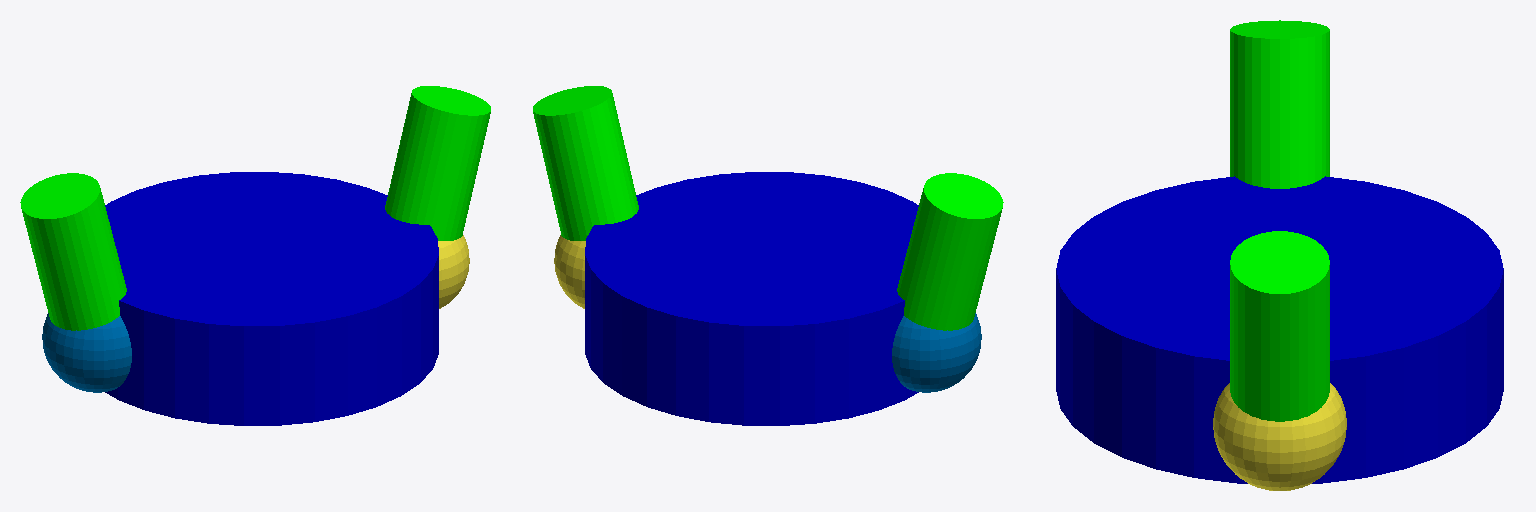
robot.urdf — gripper_2f_1j:
<?xml version='1.0' encoding='UTF-8'?>
<robot name="gripper_2f_1j">
  <link name="palm">
    <inertial>
      <origin xyz="0.0 0.0 0.0" rpy="0.0 -0.0 0.0"/>
      <mass value="1.0"/>
      <inertia ixx="1.0" ixy="0.0" ixz="0.0" iyy="1.0" iyz="0.0" izz="1.0"/>
    </inertial>
    <visual>
      <geometry>
        <cylinder radius="0.05" length="0.03"/>
      </geometry>
      <material name="blue"/>
      <origin xyz="0.0 0.0 0.0" rpy="0.0 -0.0 0.0"/>
    </visual>
    <collision>
      <geometry>
        <cylinder radius="0.05" length="0.03"/>
      </geometry>
      <origin xyz="0.0 0.0 0.0" rpy="0.0 0.0 0.0"/>
    </collision>
  </link>
  <link name="f11">
    <inertial>
      <origin xyz="0.0 0.0 0.0" rpy="0.0 -0.0 0.0"/>
      <mass value="1.0"/>
      <inertia ixx="1.0" ixy="0.0" ixz="0.0" iyy="1.0" iyz="0.0" izz="1.0"/>
    </inertial>
    <visual>
      <geometry>
        <cylinder radius="0.011155276690076148" length="0.04671896175161852"/>
      </geometry>
      <material name="green"/>
      <origin xyz="0.0 0.0 0.02335948087580926" rpy="0.0 -0.0 0.0"/>
    </visual>
    <collision>
      <geometry>
        <cylinder radius="0.011155276690076148" length="0.04671896175161852"/>
      </geometry>
      <origin xyz="0.0 0.0 0.05" rpy="0.0 0.0 0.0"/>
    </collision>
  </link>
  <link name="f21">
    <inertial>
      <origin xyz="0.0 0.0 0.0" rpy="0.0 -0.0 0.0"/>
      <mass value="1.0"/>
      <inertia ixx="1.0" ixy="0.0" ixz="0.0" iyy="1.0" iyz="0.0" izz="1.0"/>
    </inertial>
    <visual>
      <geometry>
        <cylinder radius="0.011155276690076148" length="0.04671896175161852"/>
      </geometry>
      <material name="green"/>
      <origin xyz="0.0 0.0 0.02335948087580926" rpy="0.0 -0.0 0.0"/>
    </visual>
    <collision>
      <geometry>
        <cylinder radius="0.011155276690076148" length="0.04671896175161852"/>
      </geometry>
      <origin xyz="0.0 0.0 0.05" rpy="0.0 0.0 0.0"/>
    </collision>
  </link>
  <link name="f11_base">
    <inertial>
      <origin xyz="0.0 0.0 0.0" rpy="0.0 -0.0 0.0"/>
      <mass value="1.0"/>
      <inertia ixx="1.0" ixy="0.0" ixz="0.0" iyy="1.0" iyz="0.0" izz="1.0"/>
    </inertial>
    <visual>
      <geometry>
        <sphere radius="0.015"/>
      </geometry>
      <origin xyz="0.0 0.0 0.0" rpy="0.0 -0.0 0.0"/>
    </visual>
  </link>
  <link name="f21_base">
    <inertial>
      <origin xyz="0.0 0.0 0.0" rpy="0.0 -0.0 0.0"/>
      <mass value="1.0"/>
      <inertia ixx="1.0" ixy="0.0" ixz="0.0" iyy="1.0" iyz="0.0" izz="1.0"/>
    </inertial>
    <visual>
      <geometry>
        <sphere radius="0.015"/>
      </geometry>
      <origin xyz="0.0 0.0 0.0" rpy="0.0 -0.0 0.0"/>
    </visual>
  </link>
  <joint name="f11_joint" type="revolute">
    <dynamics damping="100.0" friction="1.0"/>
    <limit effort="30.0" velocity="2.0" lower="-0.6" upper="0.25"/>
    <parent link="f11_base"/>
    <child link="f11"/>
    <axis xyz="0. 1. 0."/>
    <origin xyz="0.0 0.0 0.0" rpy="0.0 0.25 0.0"/>
  </joint>
  <joint name="f21_joint" type="revolute">
    <dynamics damping="100.0" friction="1.0"/>
    <limit effort="30.0" velocity="2.0" lower="-0.6" upper="0.25"/>
    <parent link="f21_base"/>
    <child link="f21"/>
    <axis xyz=" 0. -1.  0."/>
    <origin xyz="0.0 0.0 0.0" rpy="0.0 -0.25 0.0"/>
  </joint>
  <joint name="f11_base_joint" type="fixed">
    <parent link="palm"/>
    <child link="f11_base"/>
    <axis xyz="1. 0. 0."/>
    <origin xyz="0.05 0.0 0.0" rpy="0.0 0.0 0.0"/>
  </joint>
  <joint name="f21_base_joint" type="fixed">
    <parent link="palm"/>
    <child link="f21_base"/>
    <axis xyz="1. 0. 0."/>
    <origin xyz="-0.05 -0.0 0.0" rpy="0.0 0.0 0.0"/>
  </joint>
  <material name="blue">
    <color rgba="0.  0.  0.8 1. "/>
  </material>
  <material name="green">
    <color rgba="0. 1. 0. 1."/>
  </material>
</robot>

--- Render facts (derived) ---
The picture shows the robot from 3 angles, left to right: view 1: azimuth 30°, elevation 25°; view 2: azimuth 150°, elevation 25°; view 3: azimuth 270°, elevation 25°; orthographic projection.
Robot: gripper_2f_1j — 5 links, 4 joints (2 revolute, 2 fixed); root link palm; default pose: every joint at zero.
Visible links, largest first — view 1: palm, f21, f11, f21_base, f11_base; view 2: palm, f21, f11, f21_base, f11_base; view 3: palm, f11, f21, f11_base.
Link boxes in pixels (x1,y1,x2,y2): palm: [105, 172, 438, 425]; f21: [20, 173, 126, 330]; f11: [385, 86, 490, 240]; f21_base: [42, 313, 131, 392]; f11_base: [438, 235, 469, 308]; palm: [585, 172, 918, 425]; f21: [897, 173, 1003, 330]; f11: [533, 86, 638, 240]; f21_base: [892, 313, 981, 392]; f11_base: [554, 235, 585, 308]; palm: [1056, 176, 1503, 483]; f11: [1230, 231, 1329, 421]; f21: [1230, 20, 1329, 188]; f11_base: [1213, 383, 1346, 490].
Size in the robot's own frame: 0.1447 by 0.1 by 0.063 metres.
Geometry: primitives only (box / cylinder / sphere), no mesh files.